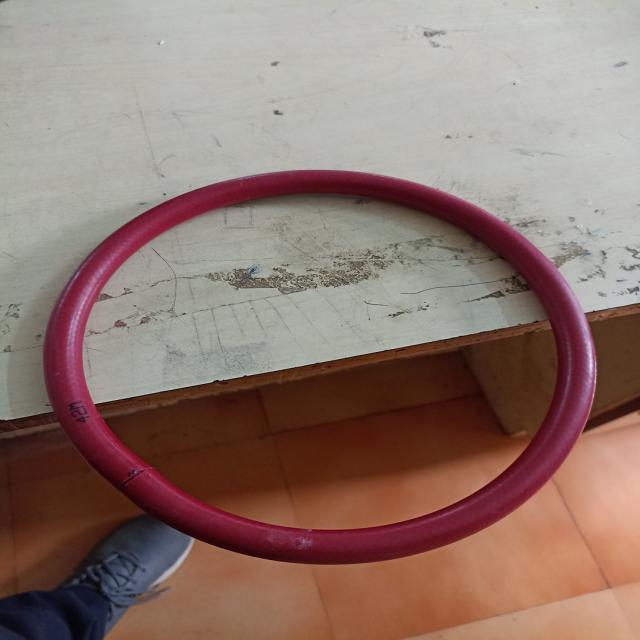daire: (50, 175, 594, 567)
